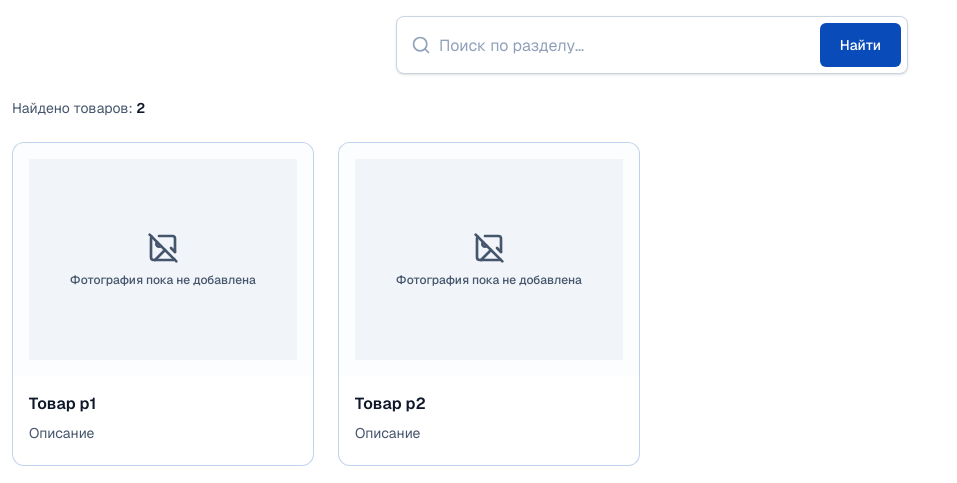
Scenario: ClientCatalogSearch: пустой результат › показывает «Ничего не найдено» с возможностью очистить поиск
The width and height of the screenshot is (957, 483).
In the field labelled "Поиск по разделу…": (625, 45) 439,25 -> 812,65, type "нет-такого"
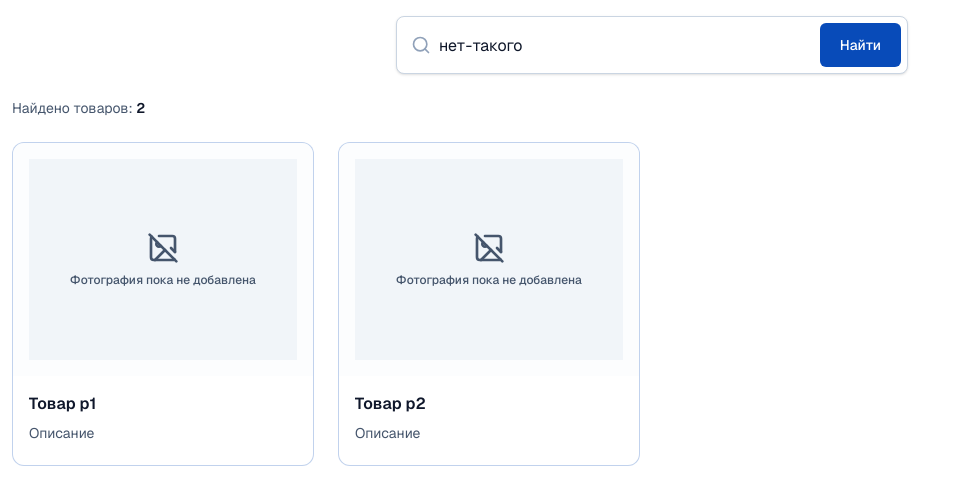
Submit the form named "поиск", box 396,16 -> 908,74
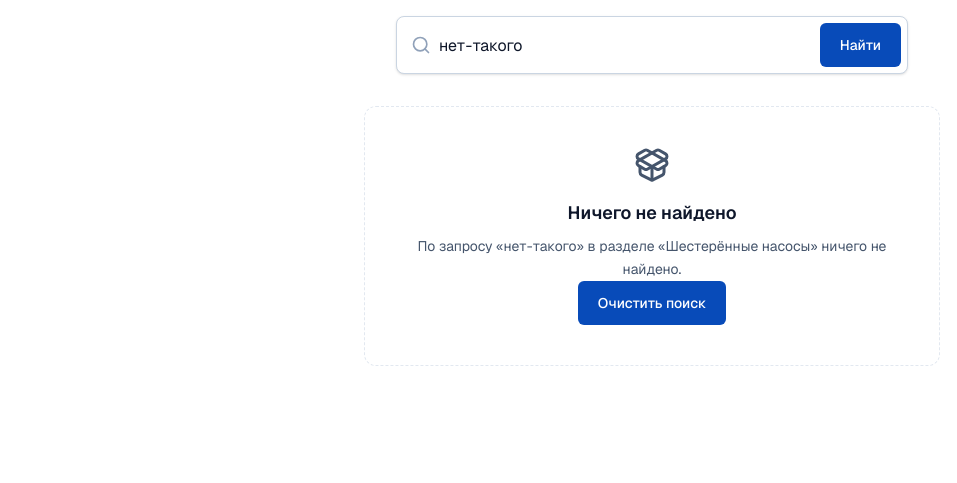
Expected: the heading "Ничего не найдено" is shown, 568,201 -> 736,224
Expected: the text "нет-такого" is shown, 418,237 -> 886,278
